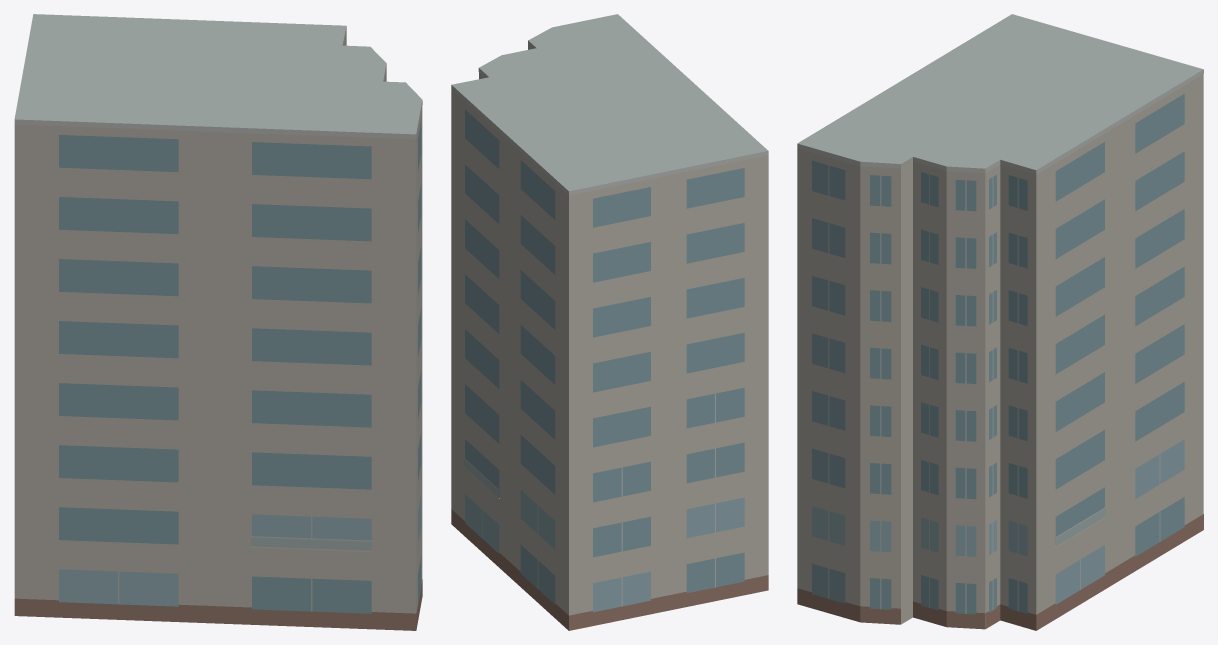
Rendered from survey-upis-32593455.glb.
3 renders of one model, left to right at view 1: azimuth 30°, elevation 25°; view 2: azimuth 150°, elevation 25°; view 3: azimuth 270°, elevation 25°, orthographic. The views are drawn at different scales.
Visible parts, largest first — view 1: survey-upis-32593455.tmp; view 2: survey-upis-32593455.tmp; view 3: survey-upis-32593455.tmp.
Part boxes in pixels (box(x1,y1,x2,y2)): survey-upis-32593455.tmp: box(14, 14, 422, 630); survey-upis-32593455.tmp: box(451, 14, 768, 630); survey-upis-32593455.tmp: box(797, 14, 1203, 630).
Bounding box in the file's own units: 17.76 × 24.4 × 19.52.
